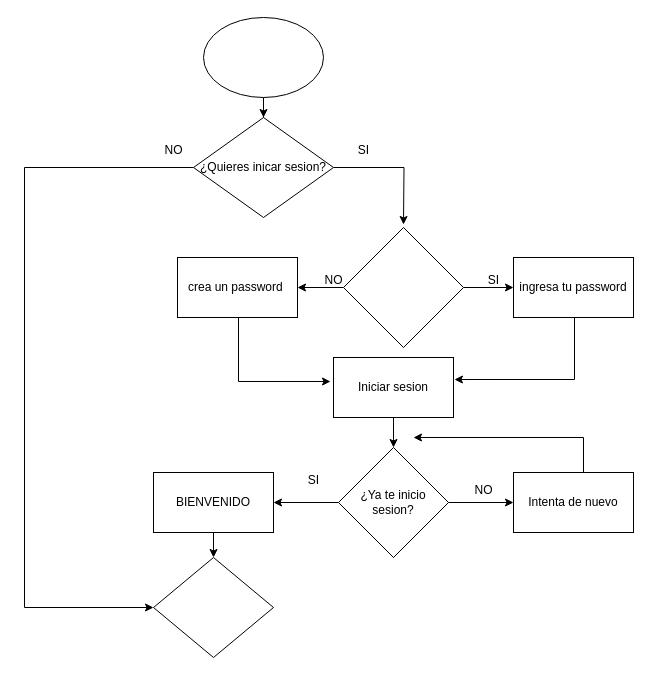
Image size: 651x675. Some labels were removed from this diagram. Each missing label, with the centre of its shape:
"FIN" goes at (x=213, y=607).
"INICIO" goes at (x=263, y=57).
"¿Tienes cuenta?" goes at (x=403, y=287).
